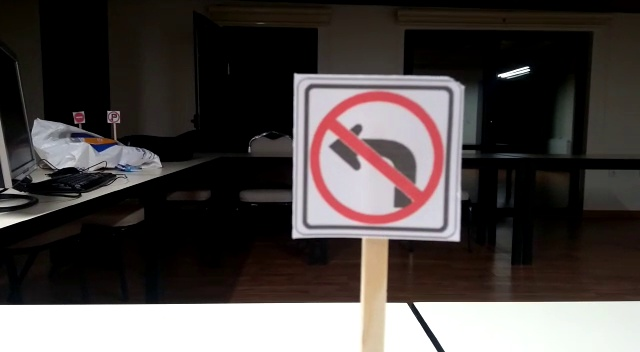sola_donulmez: (292, 89, 456, 231)
